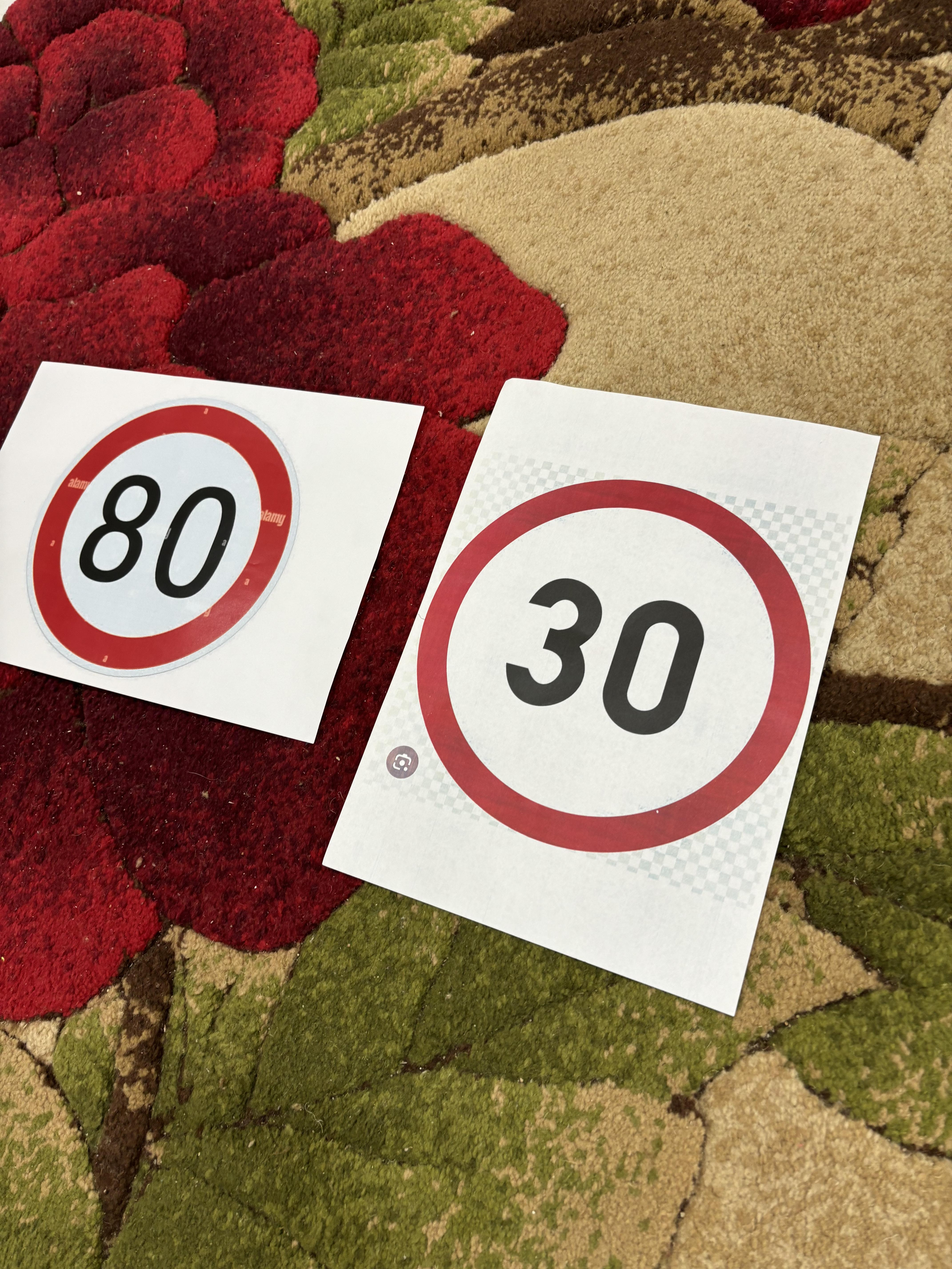30-speed: (411, 471, 825, 861)
80-Speed: (27, 403, 305, 671)
